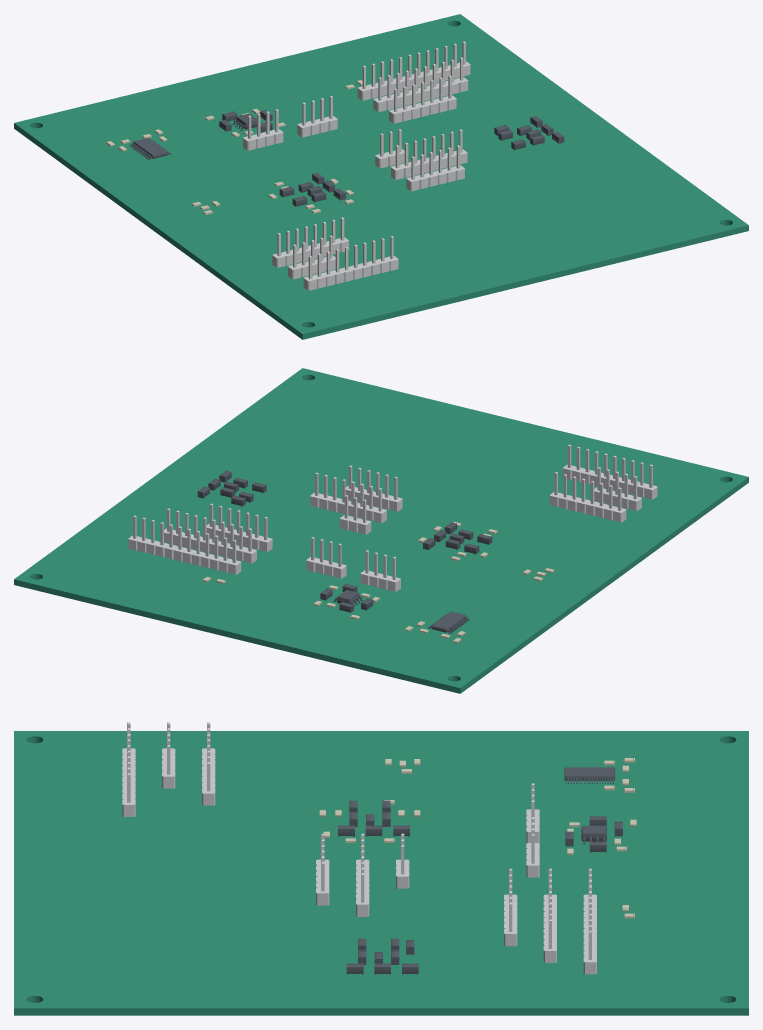
File: monitoring-transport.glb
3 renders of one model, top to bottom at view 1: azimuth 30°, elevation 25°; view 2: azimuth 150°, elevation 25°; view 3: azimuth 270°, elevation 25°, orthographic. The views are drawn at different scales.
Parts seen in each view (by area): view 1: PCB, J70006, J70020, J70021, J70004, J70022, J70002, J70003, J70005, J70008, J70007, J70001; view 2: PCB, J70020, J70006, J70004, J70021, J70002, J70022, J70003, J70005, J70008, J70007, J70001; view 3: PCB, J70020, J70006, J70021, J70004, J70002, J70022, U70001, J70003, J70005, J70008, J70007 (+1 smaller).
Part boxes in pixels (x1,y1,x2,y2): PCB: [14, 14, 748, 339]; J70006: [303, 236, 398, 290]; J70020: [357, 41, 470, 100]; J70021: [373, 57, 468, 112]; J70004: [272, 217, 349, 267]; J70022: [389, 75, 456, 123]; J70002: [391, 129, 467, 179]; J70003: [406, 145, 464, 191]; J70005: [288, 235, 335, 279]; J70008: [297, 95, 337, 137]; J70007: [243, 109, 283, 150]; J70001: [375, 129, 404, 168]; PCB: [14, 368, 748, 693]; J70020: [128, 515, 241, 574]; J70006: [562, 444, 657, 499]; J70004: [549, 472, 626, 522]; J70021: [164, 508, 256, 563]; J70002: [310, 472, 386, 522]; J70022: [206, 503, 272, 551]; J70003: [345, 465, 402, 511]; J70005: [594, 467, 641, 510]; J70008: [306, 537, 346, 578]; J70007: [360, 550, 400, 591]; J70001: [340, 495, 371, 534]; PCB: [14, 731, 748, 1015]; J70020: [583, 868, 596, 974]; J70006: [122, 722, 135, 816]; J70021: [543, 868, 556, 962]; J70004: [202, 722, 215, 805]; J70002: [356, 833, 369, 916]; J70022: [504, 868, 517, 946]; U70001: [564, 767, 615, 783]; J70003: [316, 833, 329, 905]; J70005: [162, 722, 175, 788]; J70008: [526, 817, 539, 877]; J70007: [526, 783, 539, 843].
Size of the model in its own units: 0.125 by 0.0115 by 0.14.
